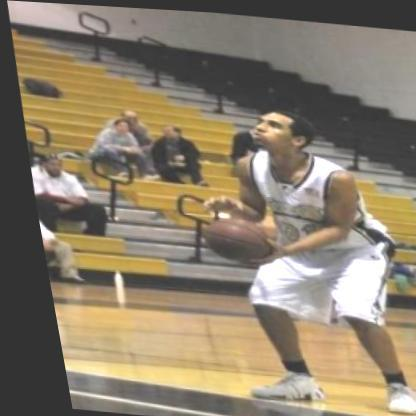basketball: (189, 209, 273, 267)
